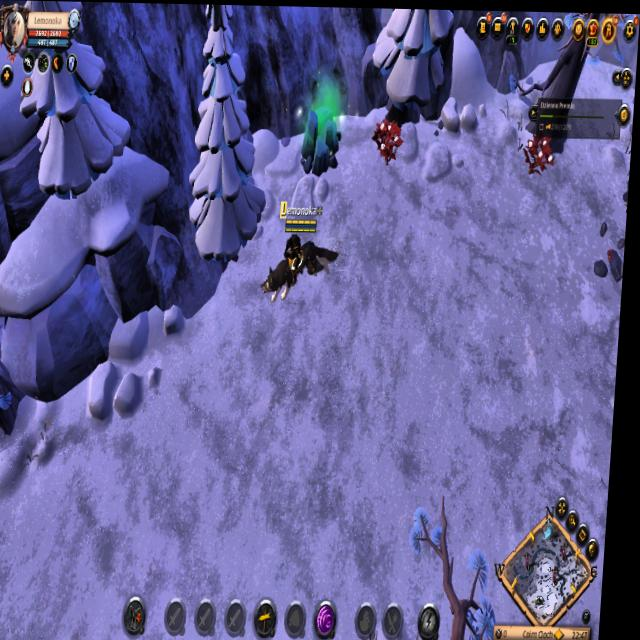fiber tier 5: (371, 114, 406, 166), (522, 136, 558, 176)
rock tier 4: (292, 67, 346, 170)
